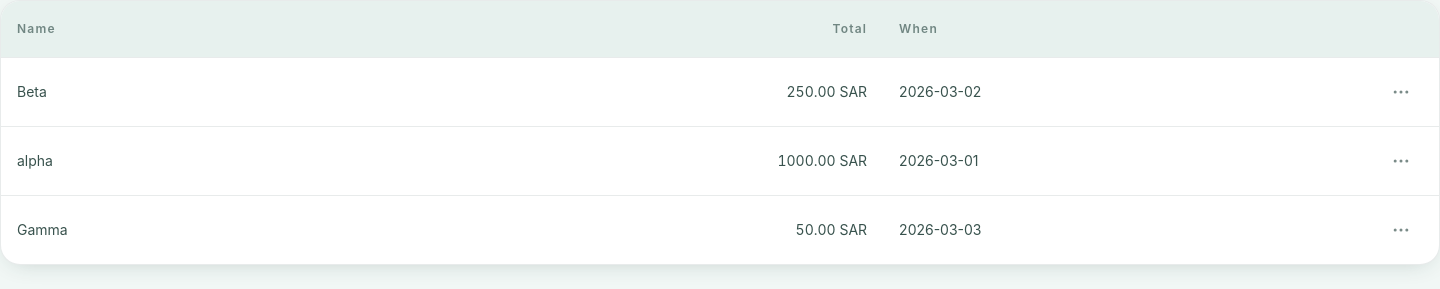
Scenario: _ui DataTable › exposes row actions through an accessible menu
Click the button named "Row actions" in the row of "Beta".
click(1401, 92)  # box [1379,70,1423,114]
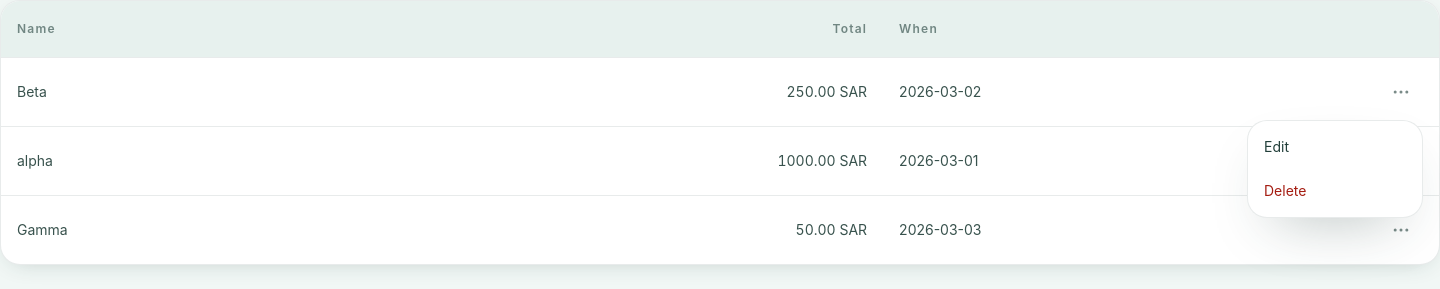
Result: the menu items read "Edit", "Delete", in this order at [1248,125,1422,169]; [1248,169,1422,213]
Press Escape in the menu, box [1247,120,1423,218]
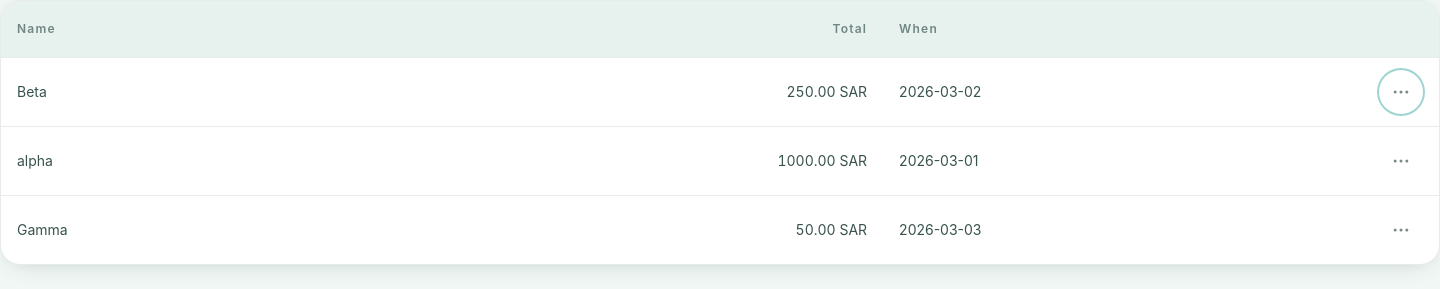
Result: the menu is gone
